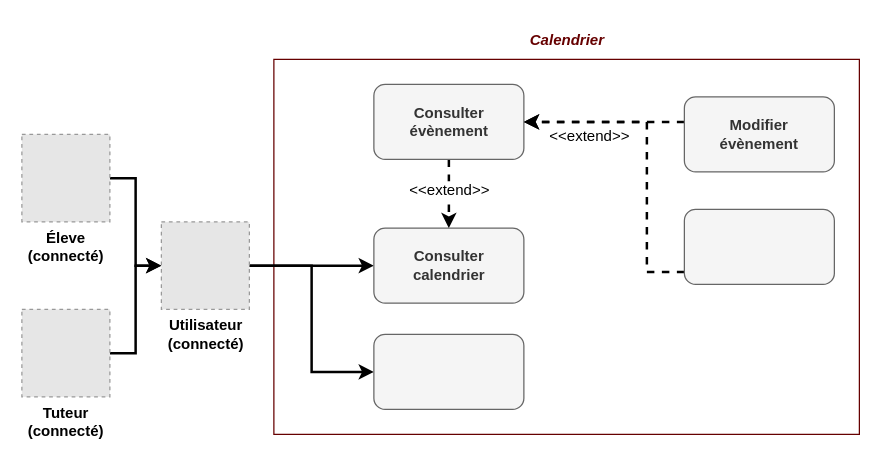
Some shapes in this 881 by 468 pixel diagram are drawn without their labels. Grey dashed boxes stand in for pictures. The centre of each missing label's shape, as x and y in pixels:
"Ajouter évènement" belongs at (448,371).
"Supprimer évènement" belongs at (758,246).
